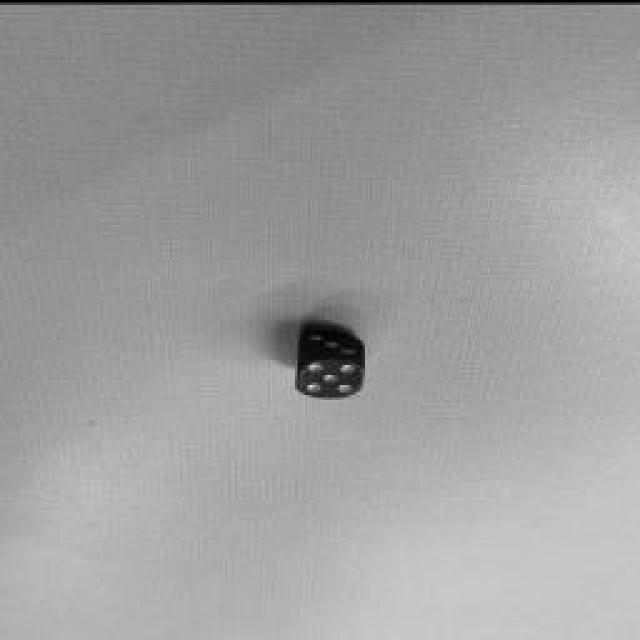dice_5: (297, 355, 365, 395)
